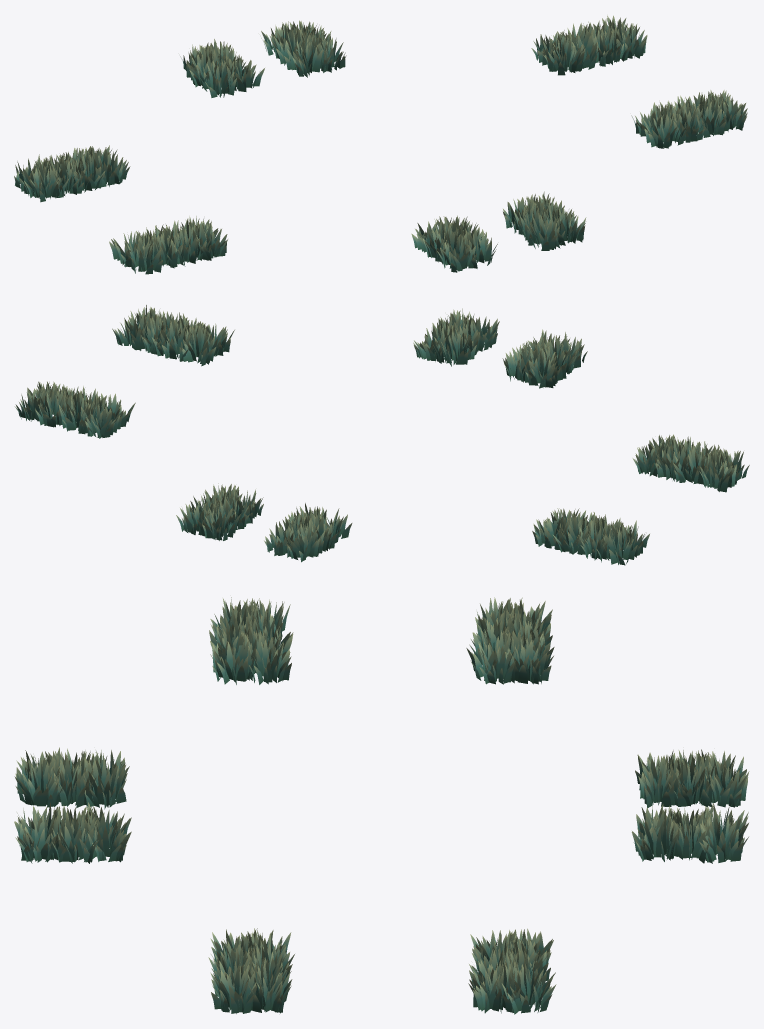
The model's file is tidelock_grass.glb.
3 renders of one model, top to bottom at view 1: azimuth 30°, elevation 25°; view 2: azimuth 150°, elevation 25°; view 3: azimuth 270°, elevation 25°, orthographic. The views are drawn at different scales.
Visible parts, largest first — view 1: Grass_30_18, Grass_21_5, Grass_6_10, Grass_30_10, Grass_21_24, Grass_6_18, Grass_17_24, Grass_8_18, Grass_17_5, Grass_32_10, Grass_9_10, Grass_32_18 (+24 smaller); view 2: Grass_21_22, Grass_6_17, Grass_30_17, Grass_21_3, Grass_17_3, Grass_17_22, Grass_30_9, Grass_8_9, Grass_31_9, Grass_6_9, Grass_7_9, Grass_9_9 (+24 smaller); view 3: Grass_18_24, Grass_18_22, Grass_33_18, Grass_33_9, Grass_9_17, Grass_9_10, Grass_22_3, Grass_22_5, Grass_22_23, Grass_18_3, Grass_18_5, Grass_22_24 (+18 smaller).
Part boxes in pixels (x1=…): Grass_30_18: x1=643, y1=106, x2=687, y2=148; Grass_21_5: x1=284, y1=35, x2=330, y2=77; Grass_6_10: x1=21, y1=162, x2=69, y2=202; Grass_30_10: x1=543, y1=34, x2=585, y2=75; Grass_21_24: x1=527, y1=210, x2=565, y2=250; Grass_6_18: x1=127, y1=233, x2=162, y2=274; Grass_17_24: x1=437, y1=230, x2=479, y2=272; Grass_8_18: x1=168, y1=223, x2=210, y2=266; Grass_17_5: x1=199, y1=54, x2=236, y2=97; Grass_32_10: x1=588, y1=25, x2=632, y2=64; Grass_9_10: x1=92, y1=147, x2=130, y2=187; Grass_32_18: x1=688, y1=94, x2=728, y2=137; Grass_21_22: x1=432, y1=325, x2=476, y2=366; Grass_6_17: x1=699, y1=451, x2=740, y2=492; Grass_30_17: x1=182, y1=322, x2=216, y2=366; Grass_21_3: x1=196, y1=498, x2=240, y2=540; Grass_17_3: x1=286, y1=523, x2=324, y2=562; Grass_17_22: x1=525, y1=346, x2=560, y2=388; Grass_30_9: x1=79, y1=395, x2=120, y2=438; Grass_8_9: x1=553, y1=512, x2=590, y2=554; Grass_31_9: x1=58, y1=390, x2=98, y2=434; Grass_6_9: x1=596, y1=524, x2=640, y2=565; Grass_7_9: x1=576, y1=518, x2=613, y2=560; Grass_9_9: x1=532, y1=509, x2=572, y2=549; Grass_18_24: x1=15, y1=756, x2=66, y2=807; Grass_18_22: x1=83, y1=757, x2=127, y2=809; Grass_33_18: x1=211, y1=964, x2=258, y2=1013; Grass_33_9: x1=502, y1=962, x2=556, y2=1014; Grass_9_17: x1=243, y1=630, x2=291, y2=684; Grass_9_10: x1=466, y1=630, x2=515, y2=684; Grass_22_3: x1=699, y1=812, x2=748, y2=863; Grass_22_5: x1=631, y1=813, x2=679, y2=861; Grass_22_23: x1=51, y1=807, x2=98, y2=863; Grass_18_3: x1=702, y1=756, x2=749, y2=807; Grass_18_5: x1=638, y1=755, x2=684, y2=807; Grass_22_24: x1=15, y1=810, x2=60, y2=863.
Bounding box in the file's own units: 14.33 × 0.6799 × 11.31.
